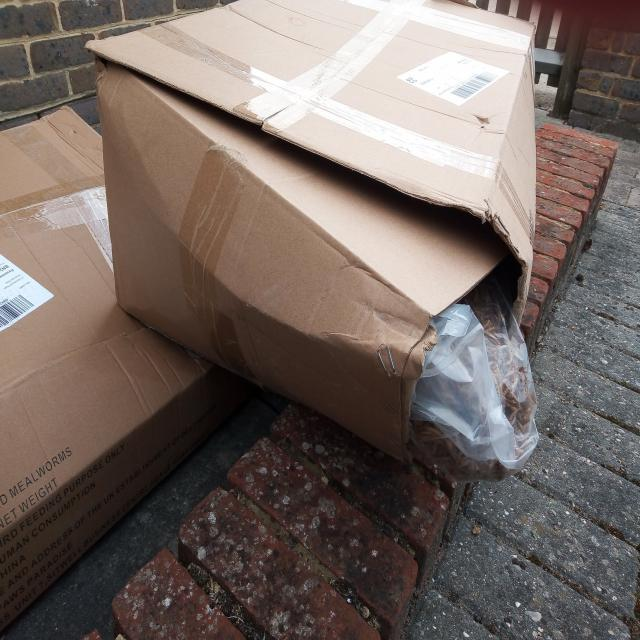hole: (403, 232, 537, 464)
